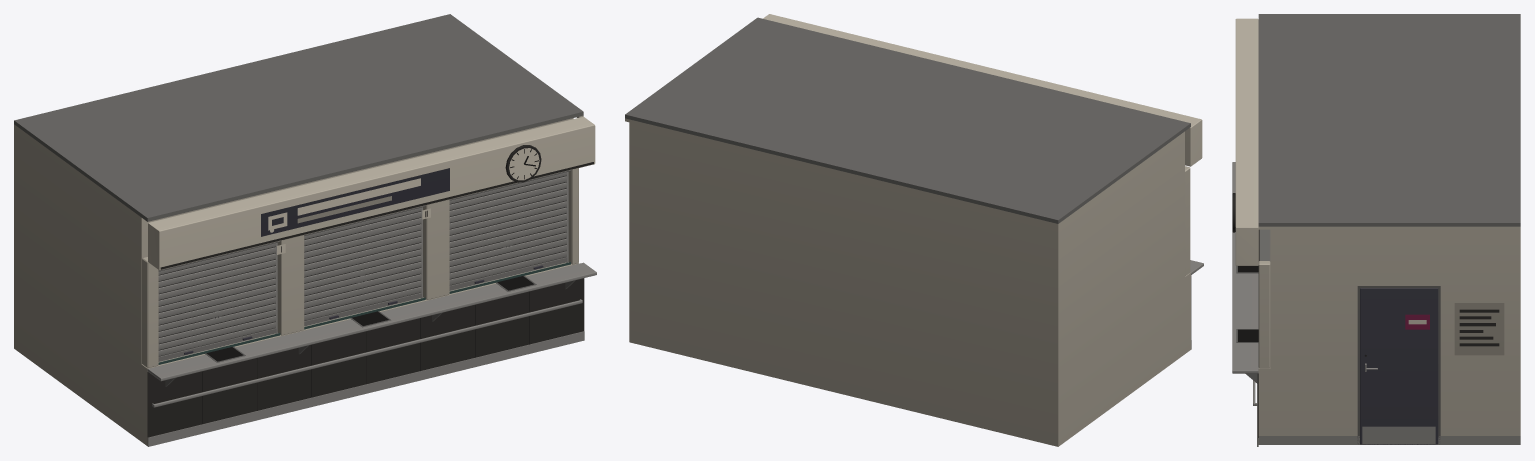
File: ticket_office.glb
3 views of the same model, side by side, from view 1: azimuth 30°, elevation 25°; view 2: azimuth 150°, elevation 25°; view 3: azimuth 270°, elevation 25° (orthographic).
Parts seen in each view (by area): view 1: ticket_office; view 2: ticket_office; view 3: ticket_office.
Boxes of the visible parts, x1,y1,x2,y2 form: ticket_office: (14, 14, 596, 446); ticket_office: (625, 14, 1203, 446); ticket_office: (1232, 14, 1520, 446).
Size of the model in its own units: 6 by 3 by 3.5.
